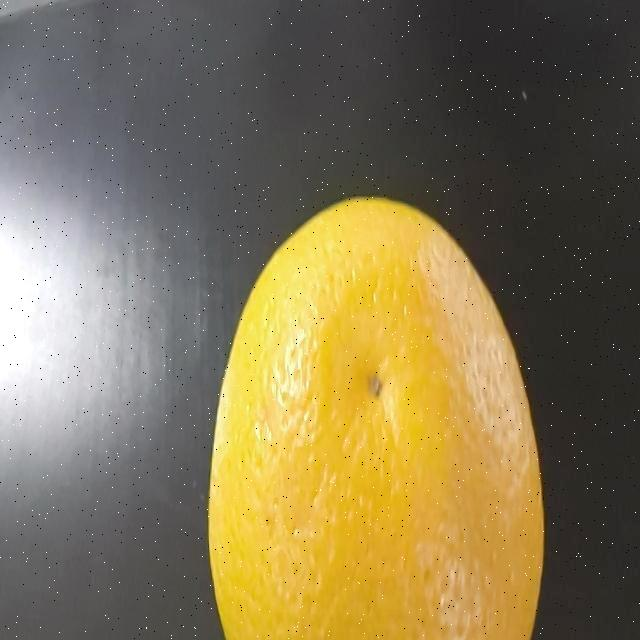Jeruk: (202, 160, 542, 640)
